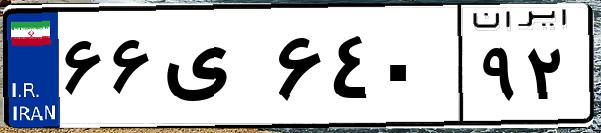0: (385, 28, 445, 110)
2: (525, 38, 570, 115)
4: (330, 28, 385, 110)
6: (270, 28, 330, 110), (57, 26, 110, 100), (110, 28, 158, 98)
9: (475, 38, 525, 113)
ی: (158, 20, 270, 120)
